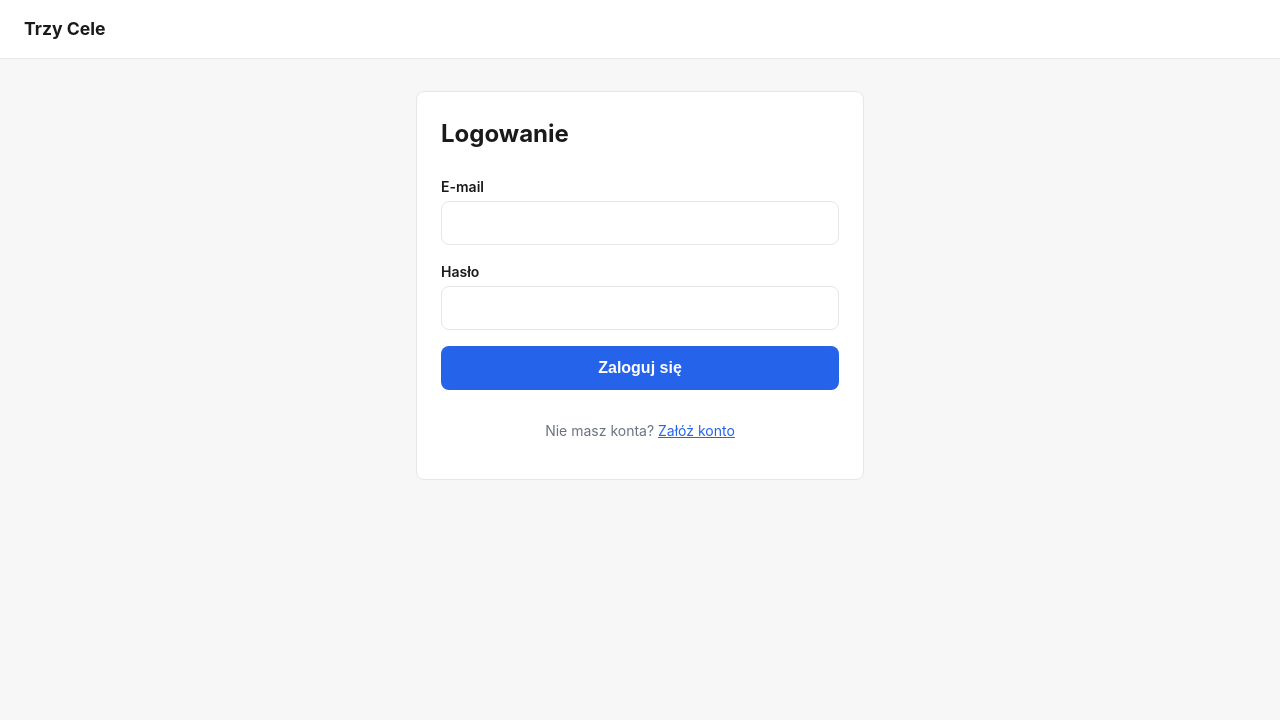
LoginPage › wyjątek sieciowy (rzut) → generyczny komunikat, formularz nie zawisa
Type "jan@example.com" into the field labelled "E-mail". click: (640, 223)
box: [441,201,839,245]
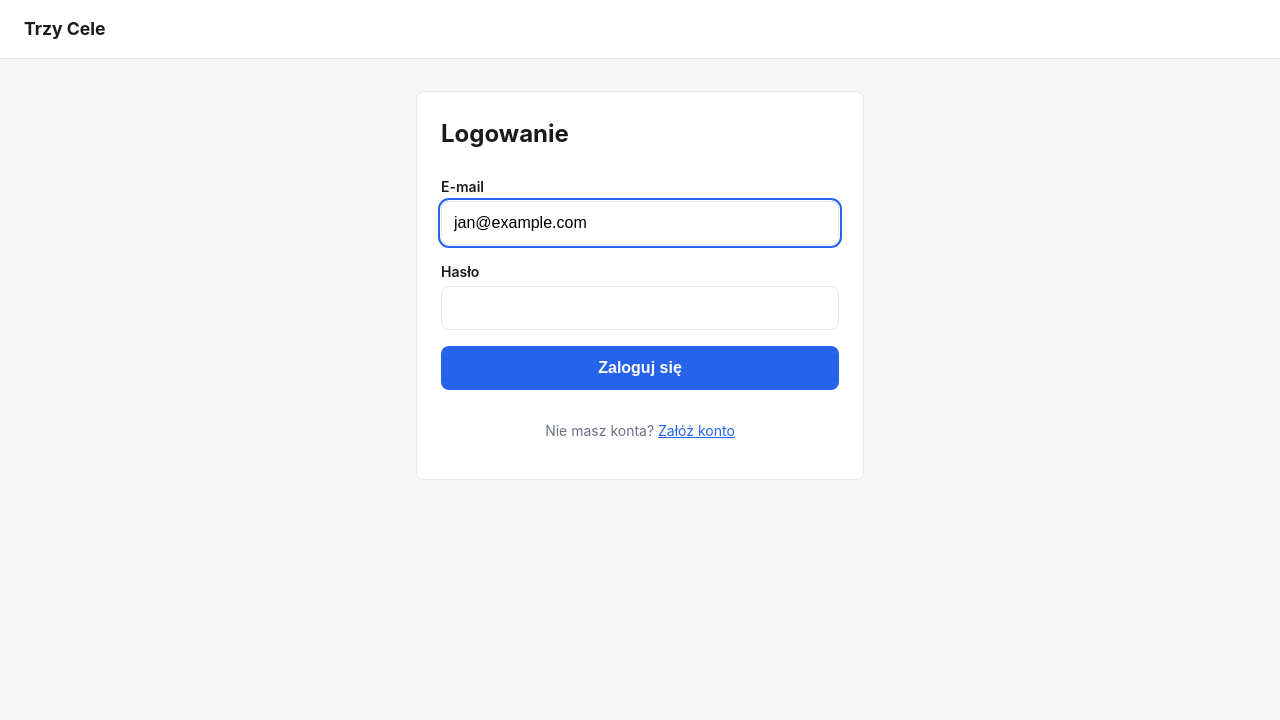
Type "jakieshaslo" into the password field labelled "Hasło". click: (640, 308)
box: [441,286,839,330]
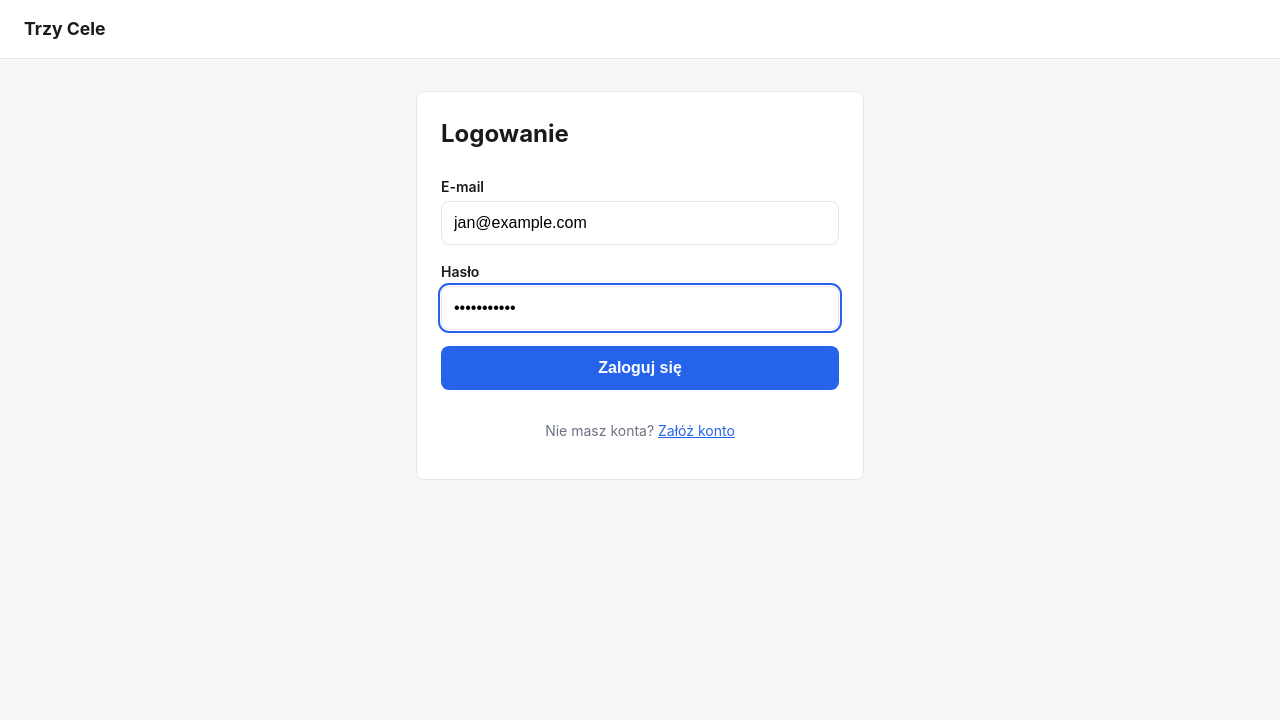
Click the button "Zaloguj się". click: (640, 368)
box: [441,346,839,390]
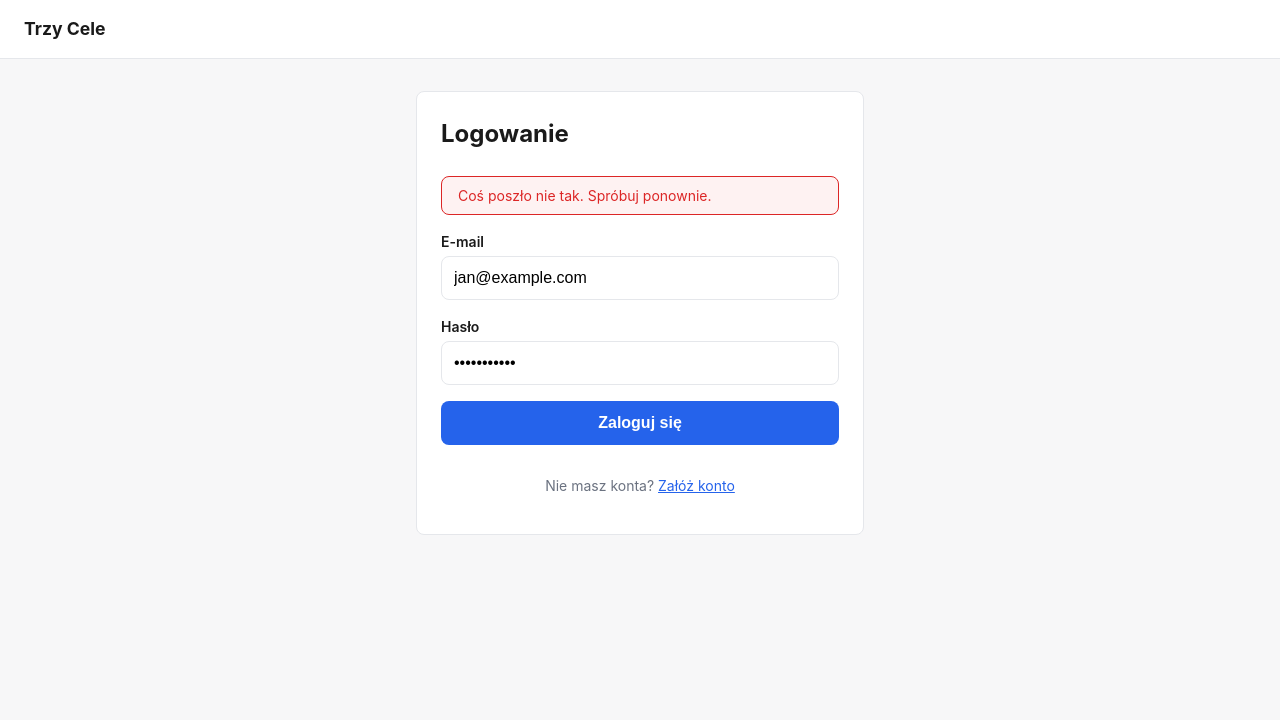
Expected: the button "Zaloguj się" is enabled, [441,401,839,445]
Now the text "Coś poszło nie tak. Spróbuj ponownie." is shown, box [441,176,839,215]
